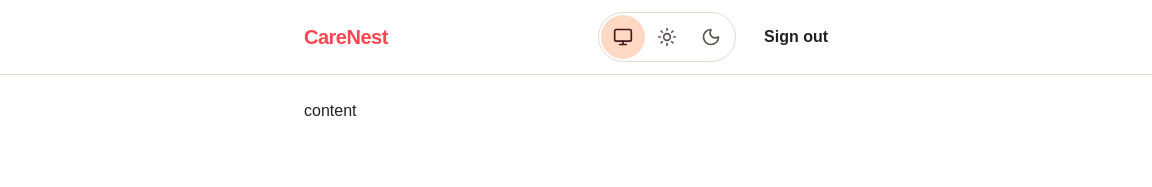
Test: AppShell sign-out › keeps the session and shows the error when sign-out fails for another reason
Click the button "Sign out": coordinates (796, 37) [744, 15, 848, 59]
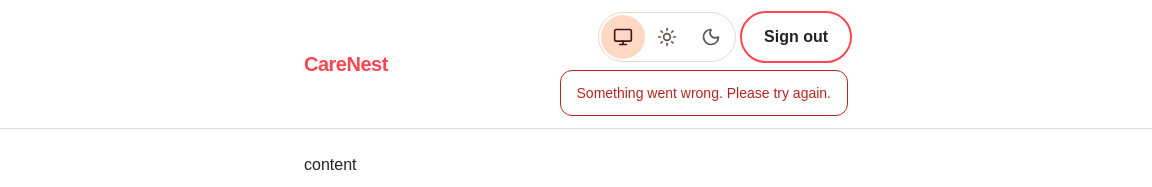
Check: the message reads "Something went wrong. Please try again.", box [576, 85, 831, 101]
